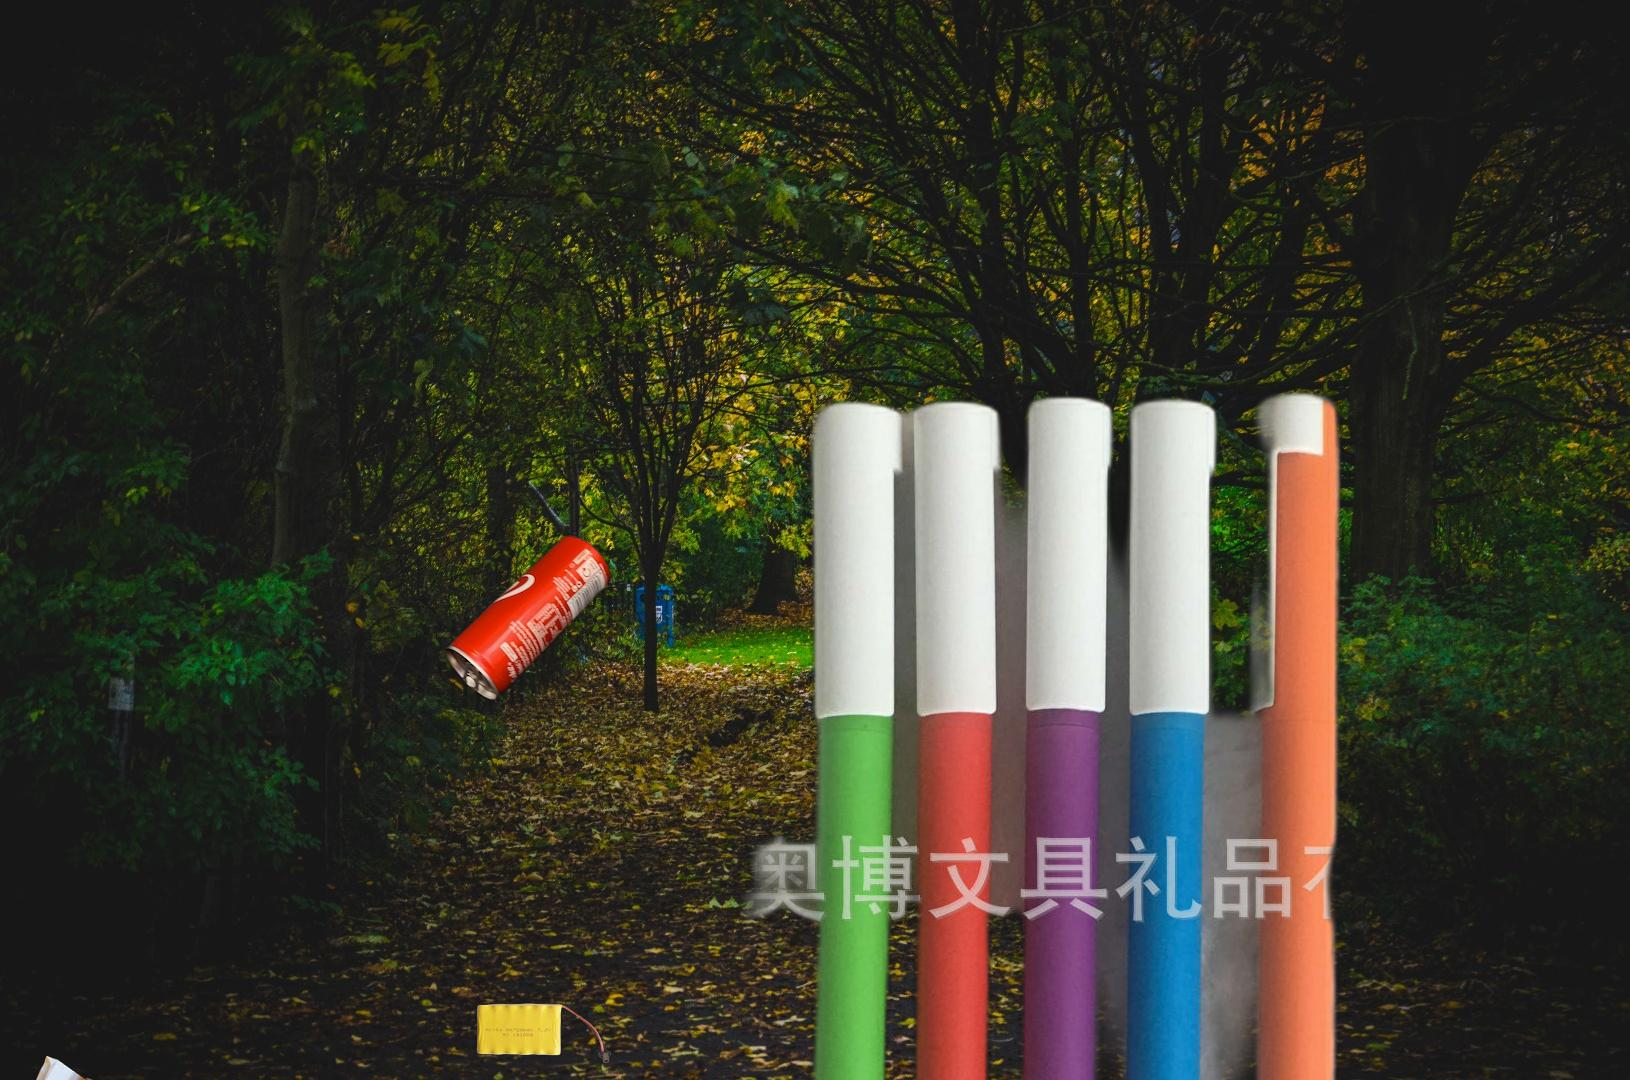battery: (473, 1000, 614, 1066)
glass: (854, 548, 955, 711)
metal-cans: (440, 529, 614, 708)
paper: (1553, 1073, 1630, 1080)
paper-bag: (22, 1053, 210, 1080)
penholder: (726, 380, 1370, 1080)
plastic-bottles: (908, 494, 1116, 885)
